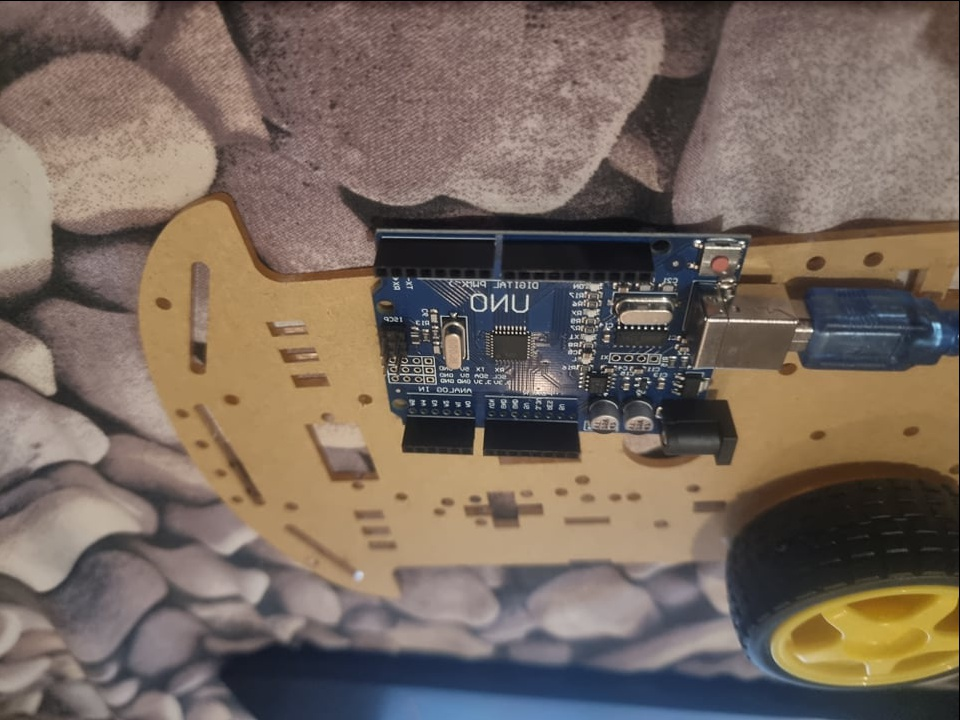UNO R3: (372, 232, 802, 469)
